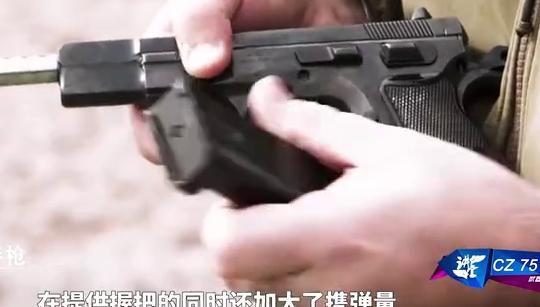gun: (1, 1, 540, 307)
